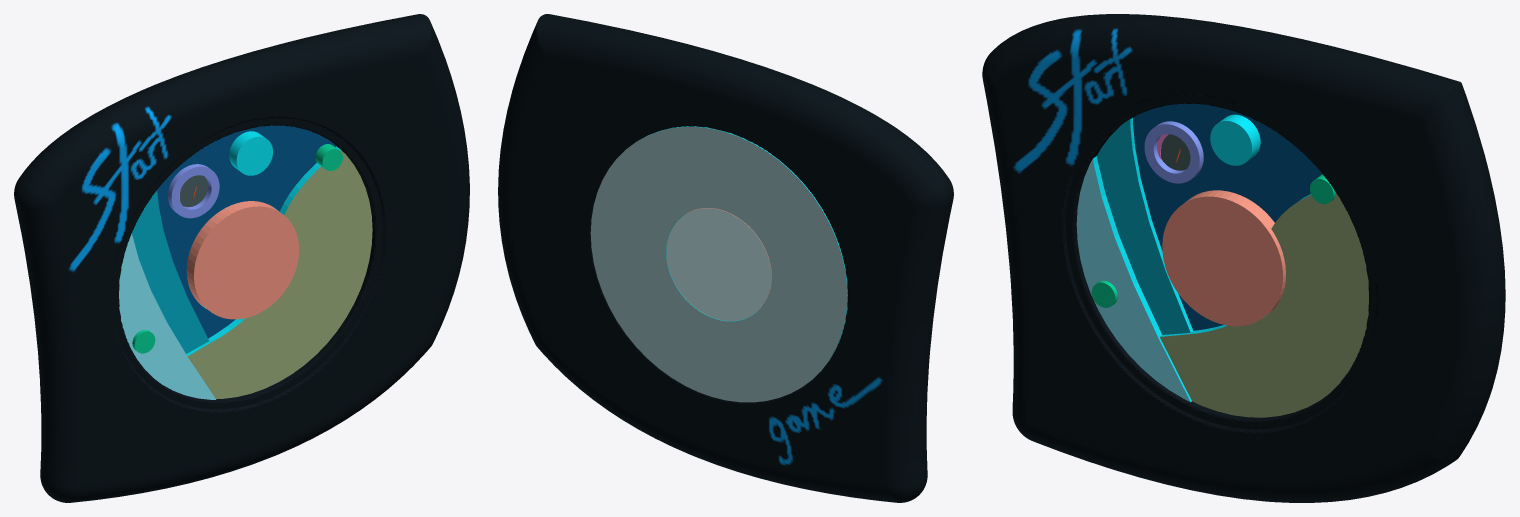
File: latedecemberSG.glb
3 views of the same model, side by side, from view 1: azimuth 30°, elevation 25°; view 2: azimuth 150°, elevation 25°; view 3: azimuth 330°, elevation 25° (orthographic). The views are drawn at different scales.
Parts seen in each view (by area): view 1: Body 02, mesh4_mesh (×7), Body 03, mesh50_mesh; view 2: Body 02, mesh4_mesh (×2), mesh0_mesh; view 3: Body 02, mesh4_mesh (×7), Body 03.
Boxes of the visible parts, x1=… form: Body 02: x1=14, y1=14, x2=469, y2=502; mesh4_mesh (×7): x1=119, y1=125, x2=372, y2=399; Body 03: x1=186, y1=201, x2=298, y2=319; mesh50_mesh: x1=315, y1=144, x2=342, y2=170; Body 02: x1=498, y1=14, x2=953, y2=502; mesh4_mesh (×2): x1=590, y1=126, x2=847, y2=402; mesh0_mesh: x1=666, y1=208, x2=771, y2=320; Body 02: x1=982, y1=14, x2=1505, y2=502; mesh4_mesh (×7): x1=1076, y1=103, x2=1368, y2=417; Body 03: x1=1162, y1=190, x2=1285, y2=326.
Size of the model in its own units: 0.0887 by 0.0776 by 0.00953.
Materials: 16 (1 with a texture image).
